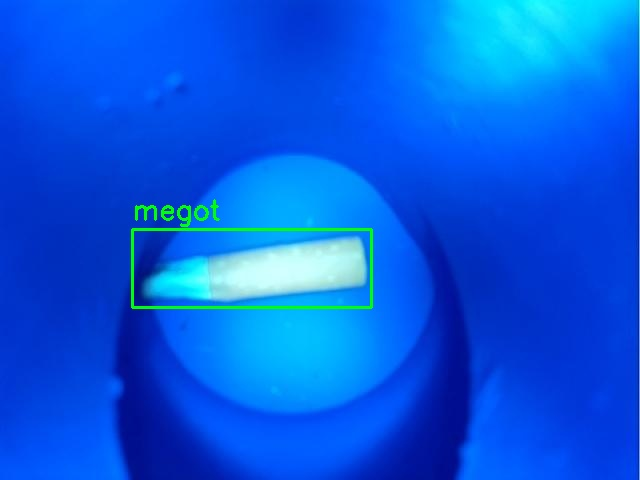megot: (132, 229, 371, 307)
